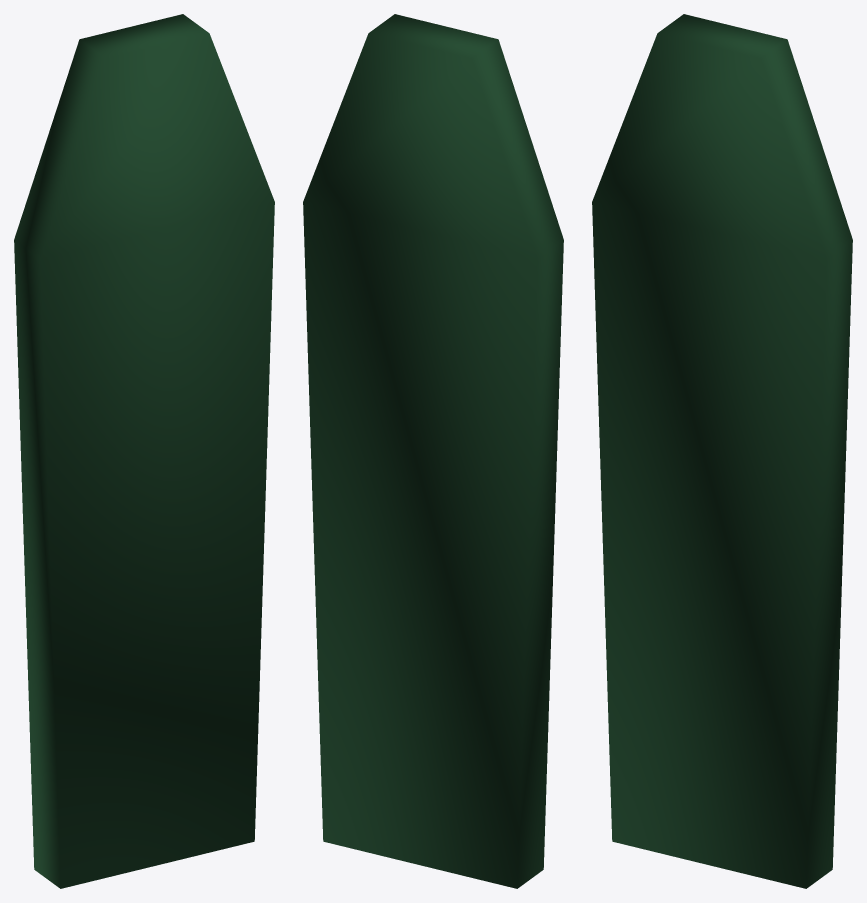
The model's file is Cerca.fbx.
3 views of the same model, side by side, from view 1: azimuth 30°, elevation 25°; view 2: azimuth 150°, elevation 25°; view 3: azimuth 330°, elevation 25° (orthographic).
Parts seen in each view (by area): view 1: Cerca; view 2: Cerca; view 3: Cerca.
Boxes of the visible parts, left/top/right/bottom form: Cerca: left=14, top=14, right=274, bottom=888; Cerca: left=303, top=14, right=563, bottom=888; Cerca: left=592, top=14, right=852, bottom=888.
Bounding box in the file's own units: 22.06 × 4.3 × 73.67.
